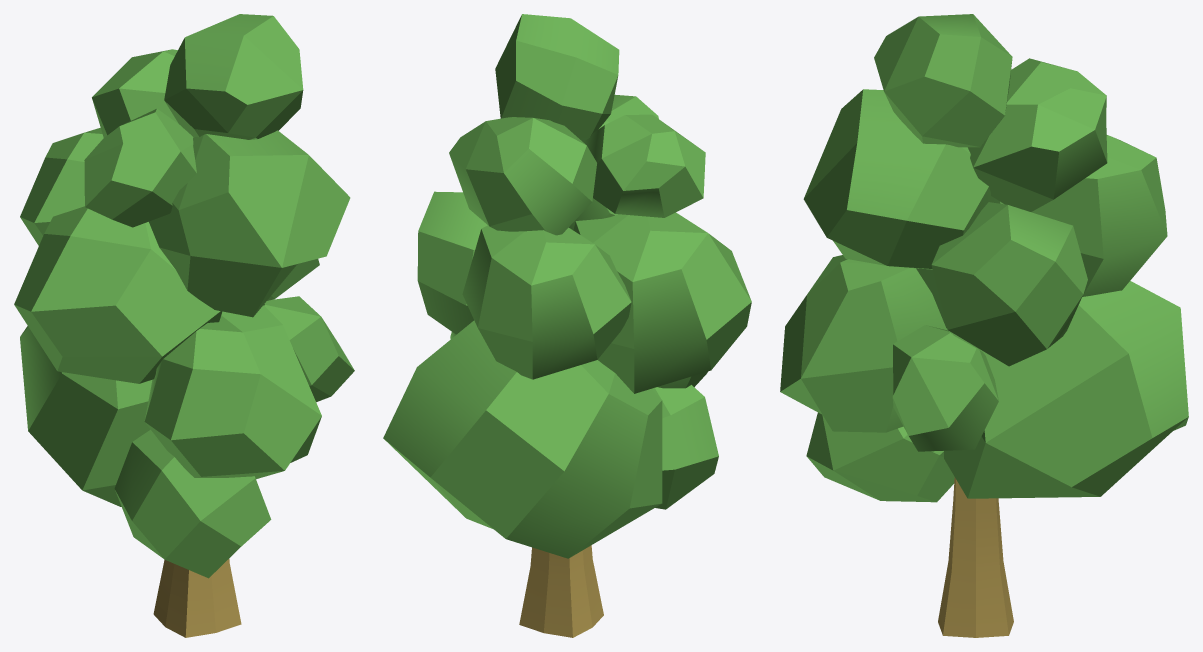
The model's file is tree_2.fbx.
3 views of the same model, side by side, from view 1: azimuth 30°, elevation 25°; view 2: azimuth 150°, elevation 25°; view 3: azimuth 270°, elevation 25° (orthographic). The views are drawn at different scales.
Visible parts, largest first — view 1: Trees:pPlane112; view 2: Trees:pPlane112; view 3: Trees:pPlane112.
Boxes of the visible parts, <box> form: Trees:pPlane112: <box>14,14,354,637</box>; Trees:pPlane112: <box>383,14,751,637</box>; Trees:pPlane112: <box>780,14,1188,637</box>.
Size of the model in its own units: 144 by 266 by 160.
